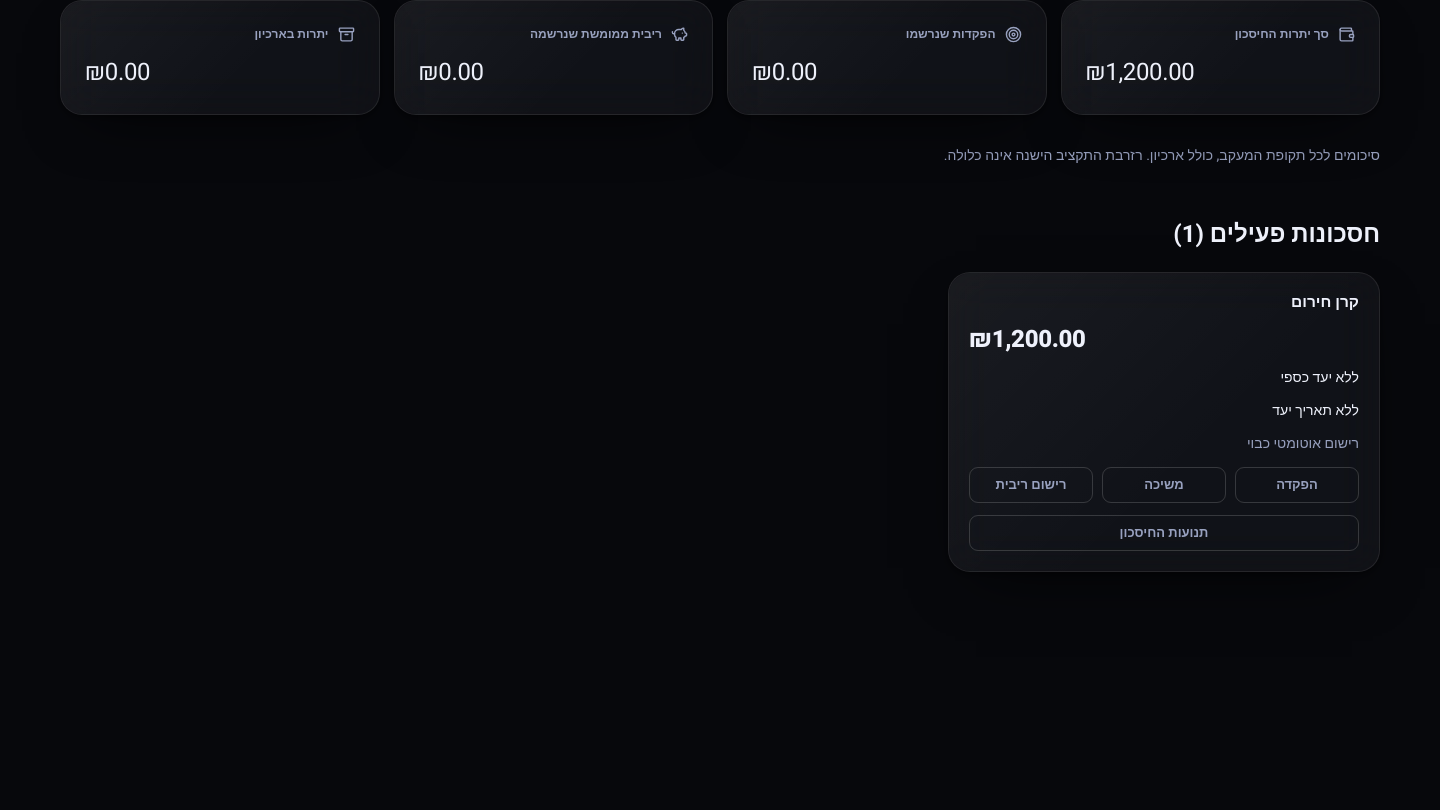
Test: Savings management › loads details/history, archives while preserving money, and refetches the collection
Click the button "קרן חירום". click: (1325, 304)
box: [1291, 293, 1359, 314]
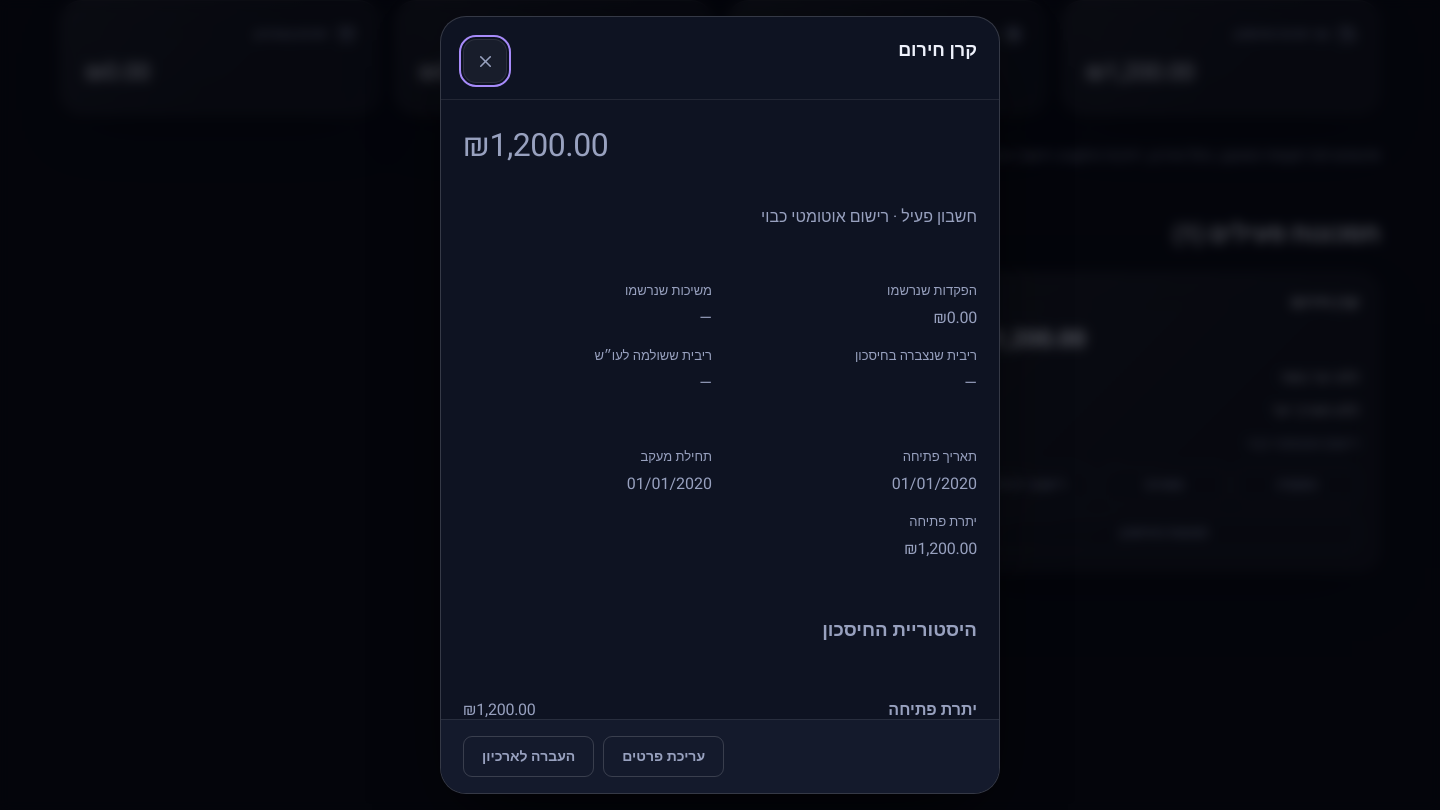
Now the heading "היסטוריית החיסכון" is shown, box [822, 616, 977, 644]
Click the button "העברה לארכיון". click: (529, 756)
box: [463, 736, 594, 777]
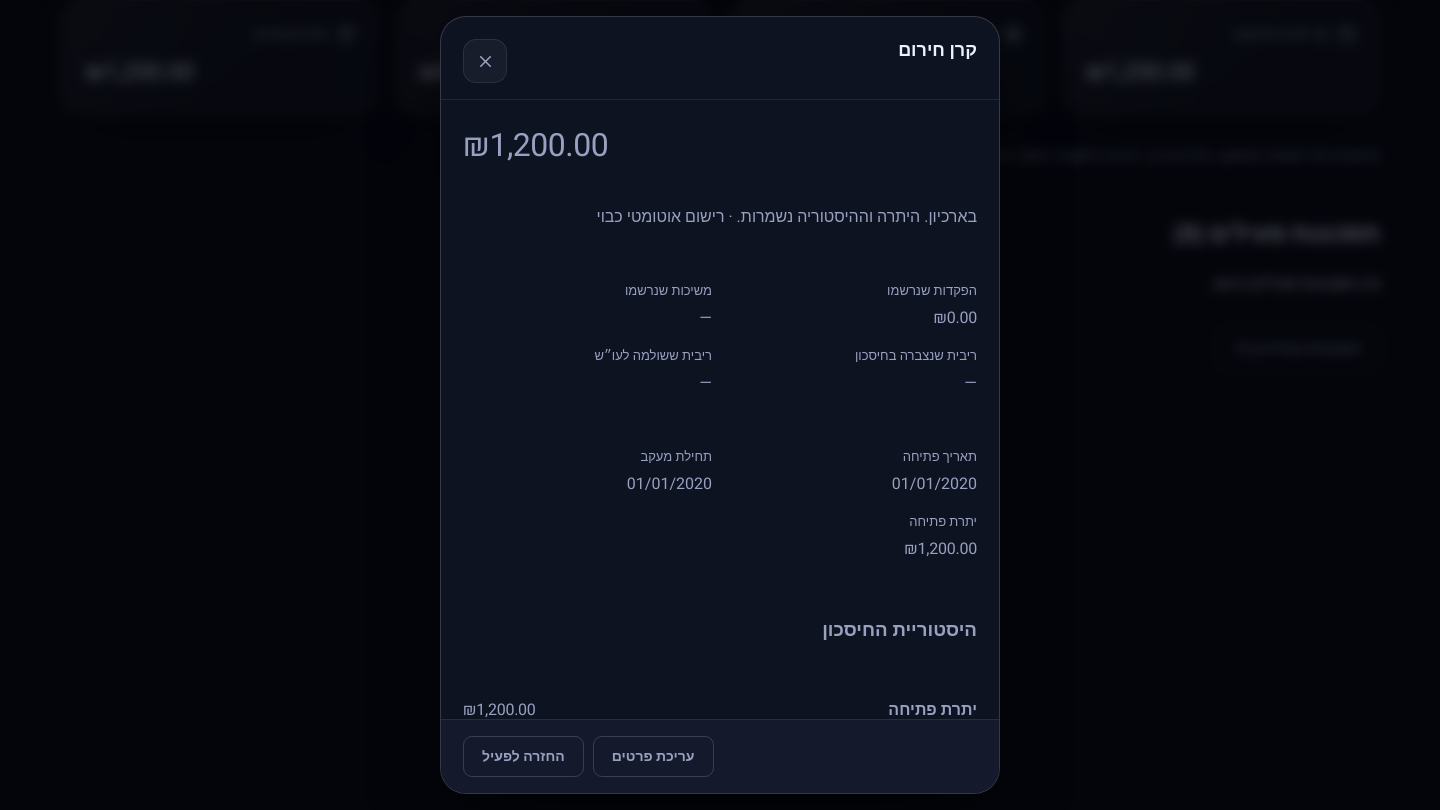
Now the button "החזרה לפעיל" is shown, box [463, 736, 584, 777]
